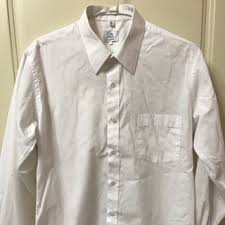S_shirt: (1, 4, 225, 224)
